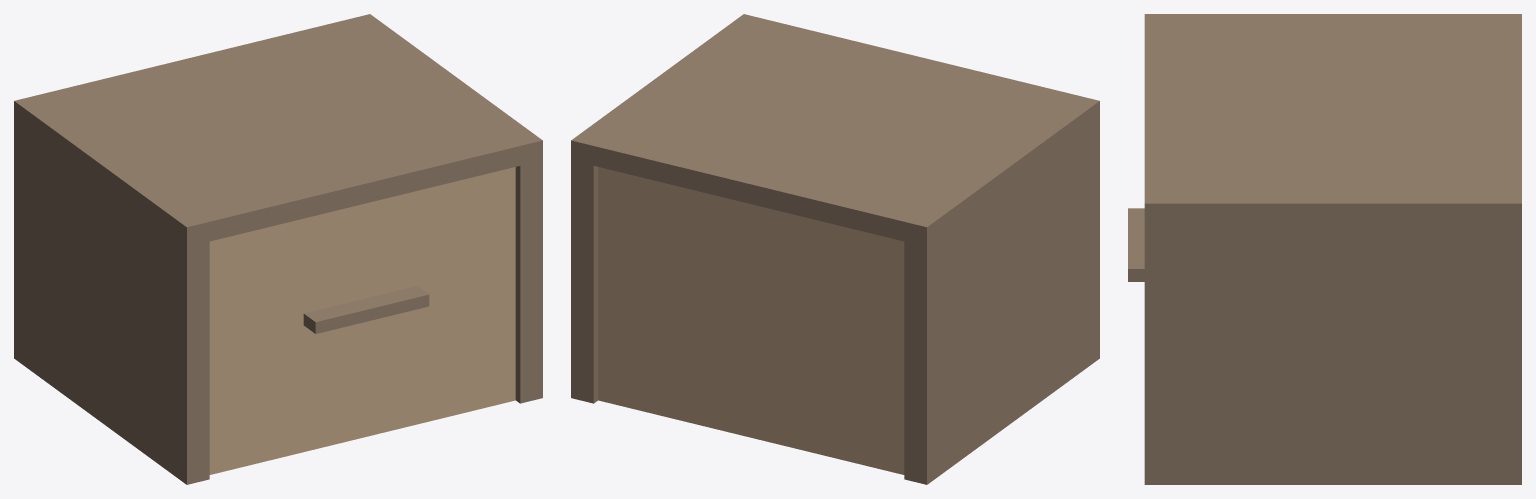
File: martial-arts-dojo-and-fight-stages-plyo-box-cc2104eb__18047.glb
3 renders of one model, left to right at view 1: azimuth 30°, elevation 25°; view 2: azimuth 150°, elevation 25°; view 3: azimuth 270°, elevation 25°, orthographic. The views are drawn at different scales.
Visible parts, largest first — view 1: plyo-box; view 2: plyo-box; view 3: plyo-box.
Part boxes in pixels (x1=…): plyo-box: x1=14, y1=14, x2=542, y2=484; plyo-box: x1=571, y1=14, x2=1099, y2=484; plyo-box: x1=1128, y1=14, x2=1521, y2=484.
Size of the model in its own units: 0.94 by 0.65 by 0.825.
